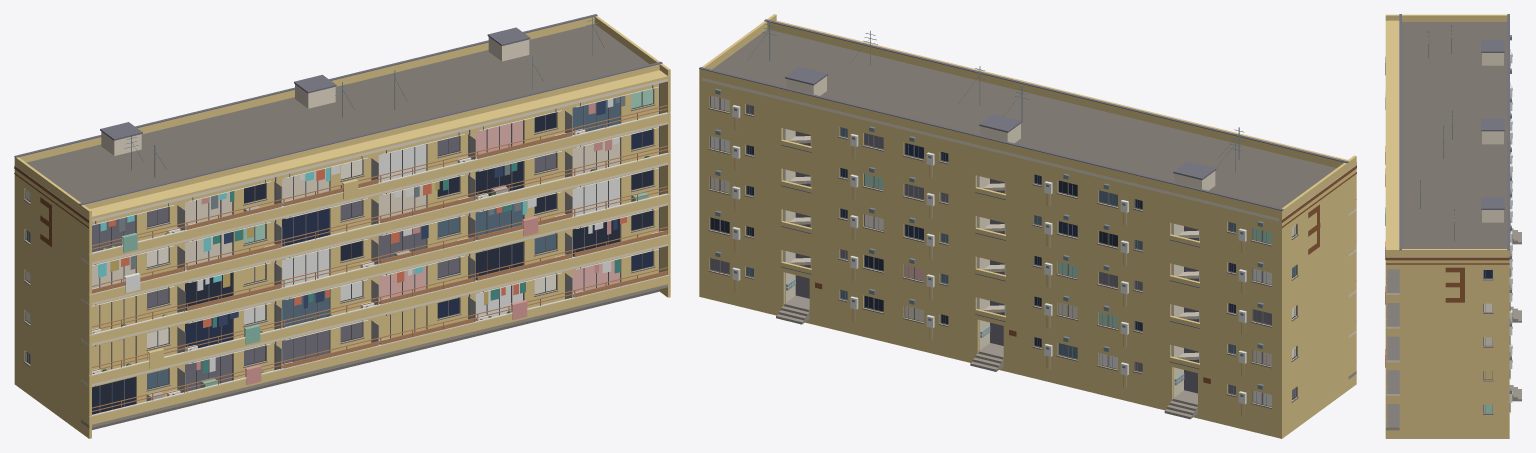
Rendered from tb_danchi_5f_01_c.fbx.
The picture shows the model from 3 angles, left to right: view 1: azimuth 30°, elevation 25°; view 2: azimuth 150°, elevation 25°; view 3: azimuth 270°, elevation 25°; orthographic projection. The views are drawn at different scales.
Visible parts, largest first — view 1: tb_danchi_5f_01_c; view 2: tb_danchi_5f_01_c; view 3: tb_danchi_5f_01_c.
Boxes of the visible parts, left/top/right/bottom form: tb_danchi_5f_01_c: left=14, top=14, right=670, bottom=438; tb_danchi_5f_01_c: left=699, top=14, right=1356, bottom=438; tb_danchi_5f_01_c: left=1385, top=14, right=1521, bottom=438.
Size of what is drawn, in the model's own units: 40.62 by 17.3 by 9.96.
Materials: 3 (3 with a texture image).
